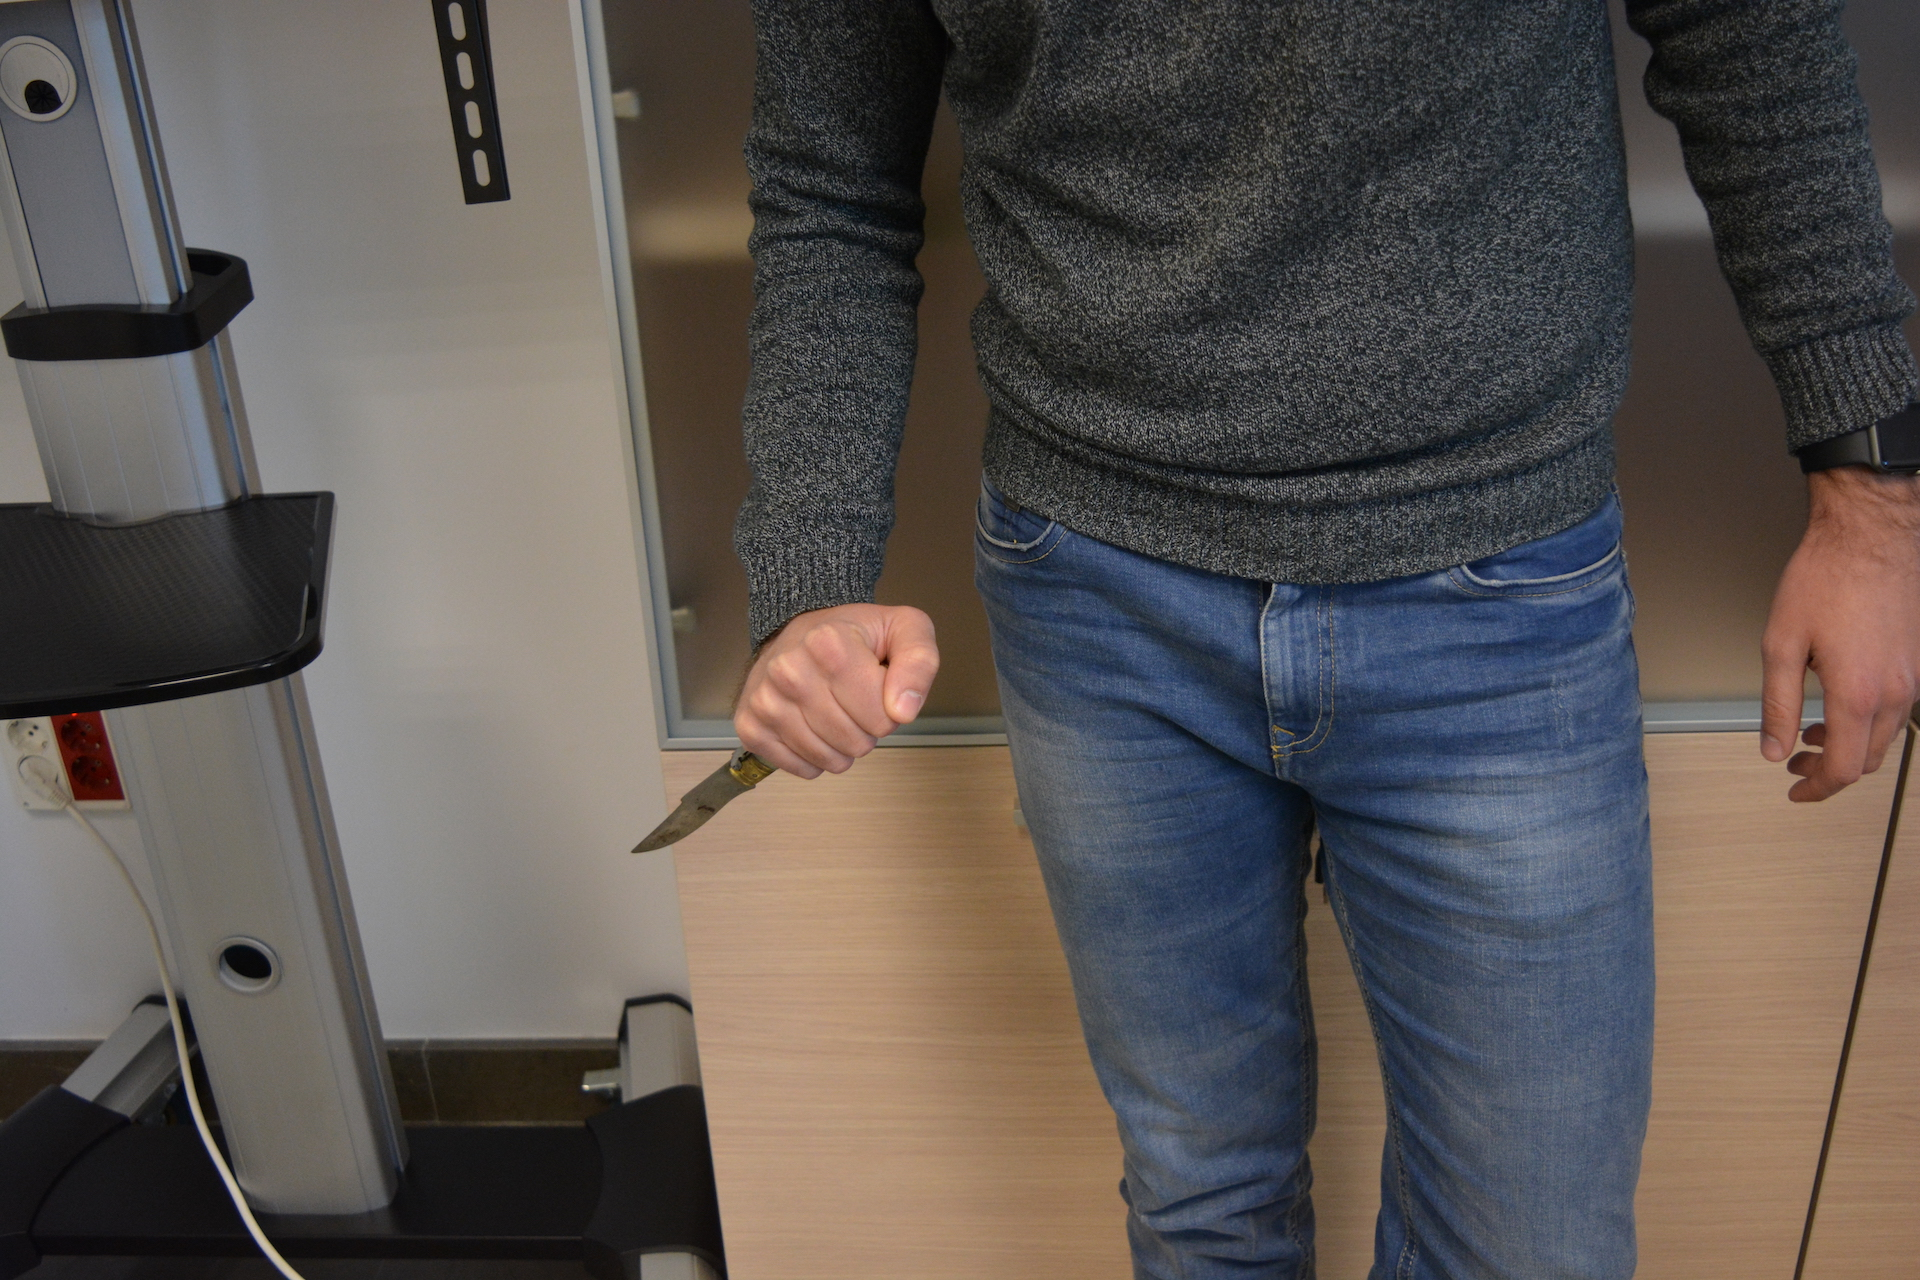knife: (620, 714, 811, 863)
